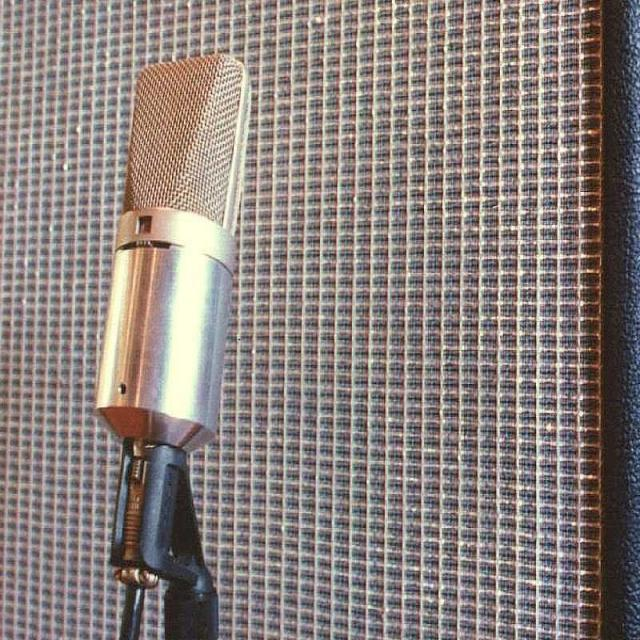microphone: (94, 44, 269, 440)
